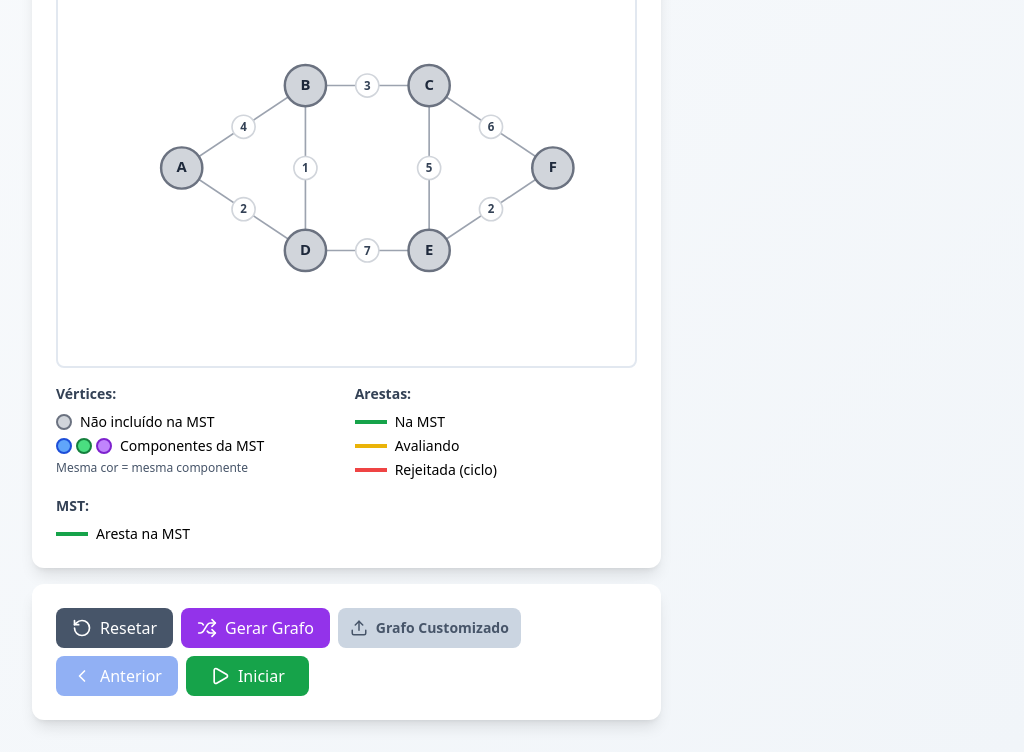
KruskalSimulator Integration › should show MST panel
(page scrolled)
Click the button with test id "start-button" at (247, 676), box left=186, top=656, right=309, bottom=696
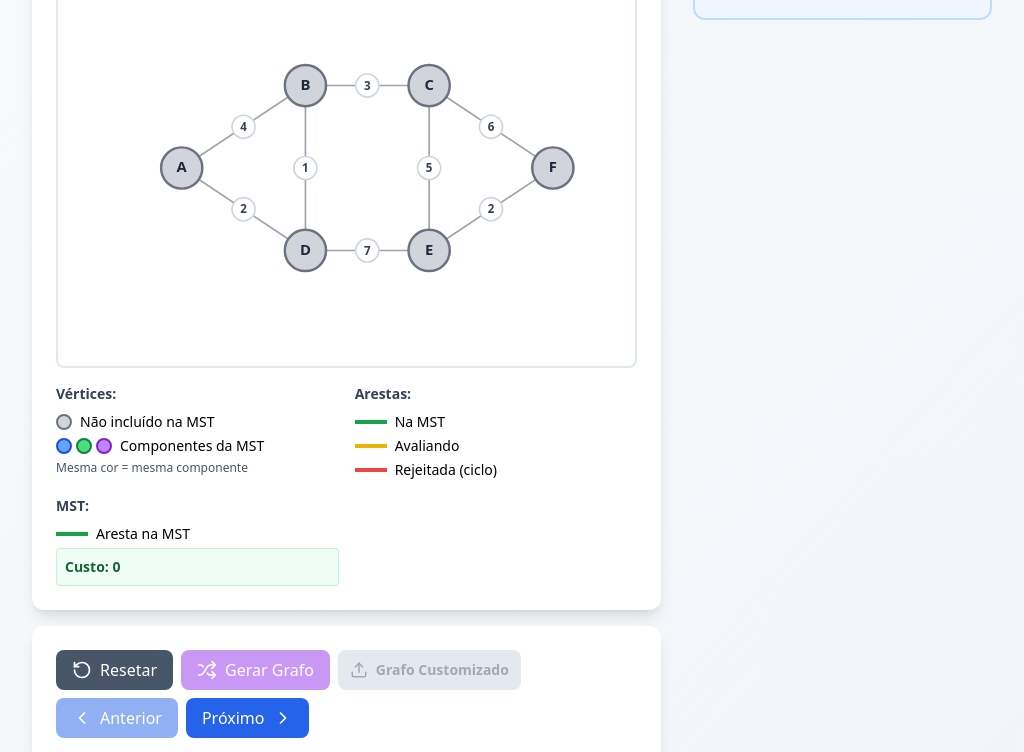
Click the button with test id "next-button" at (247, 718), box left=186, top=698, right=308, bottom=738
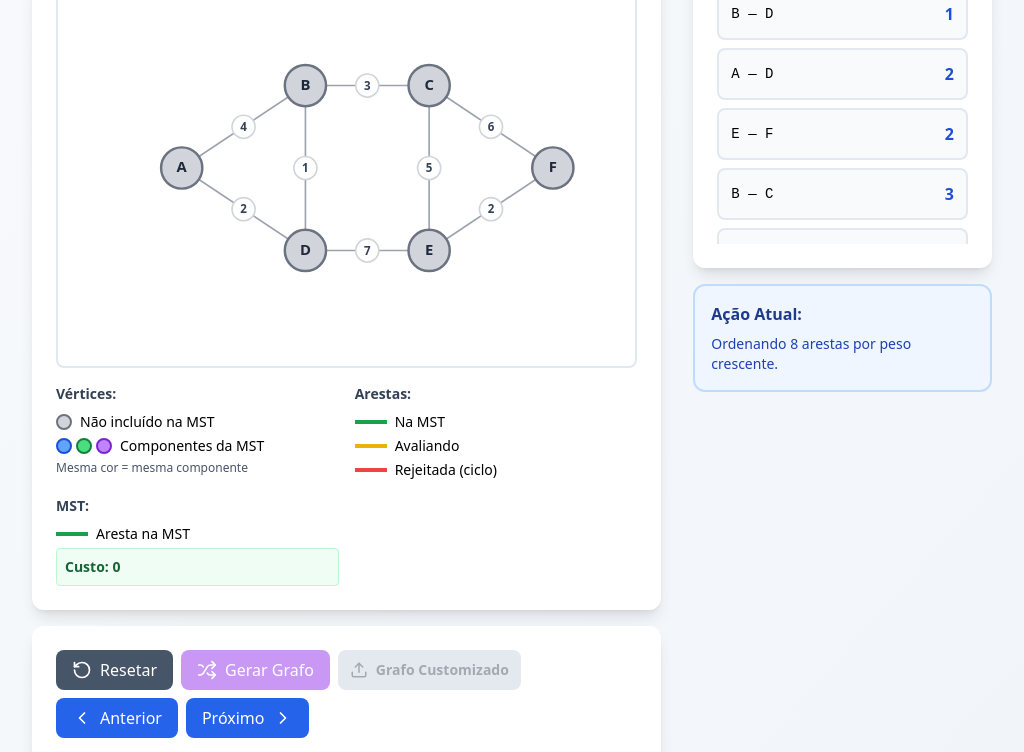
Click the button with test id "next-button" at (247, 718), box left=186, top=698, right=308, bottom=738
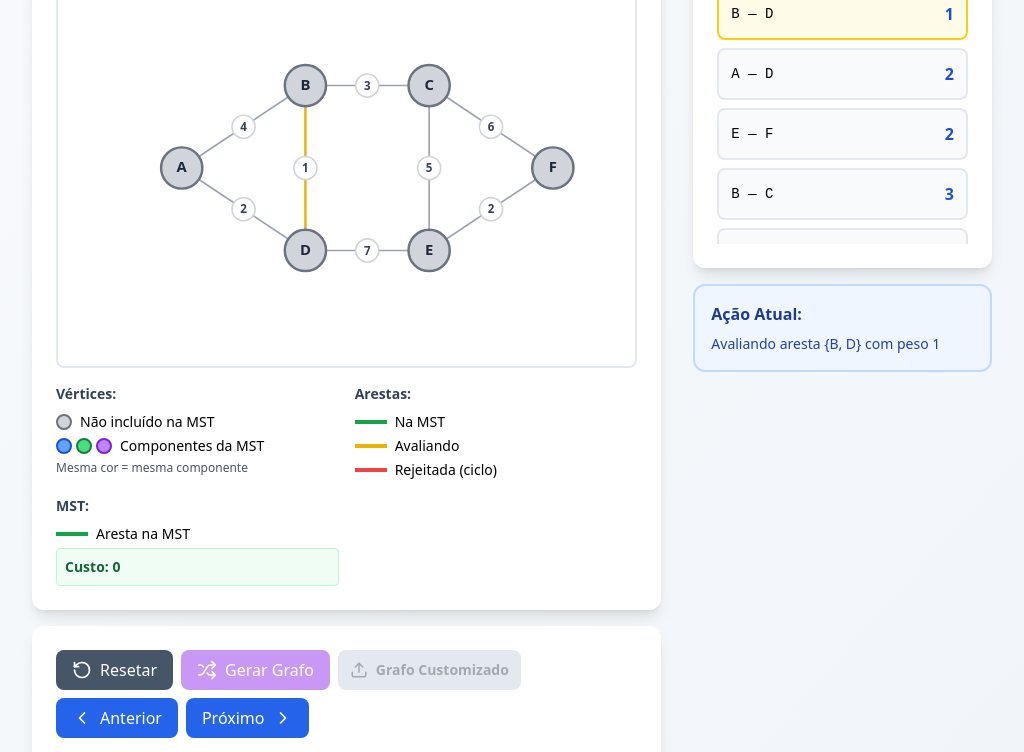
Click the button with test id "next-button" at (247, 718), box left=186, top=698, right=308, bottom=738
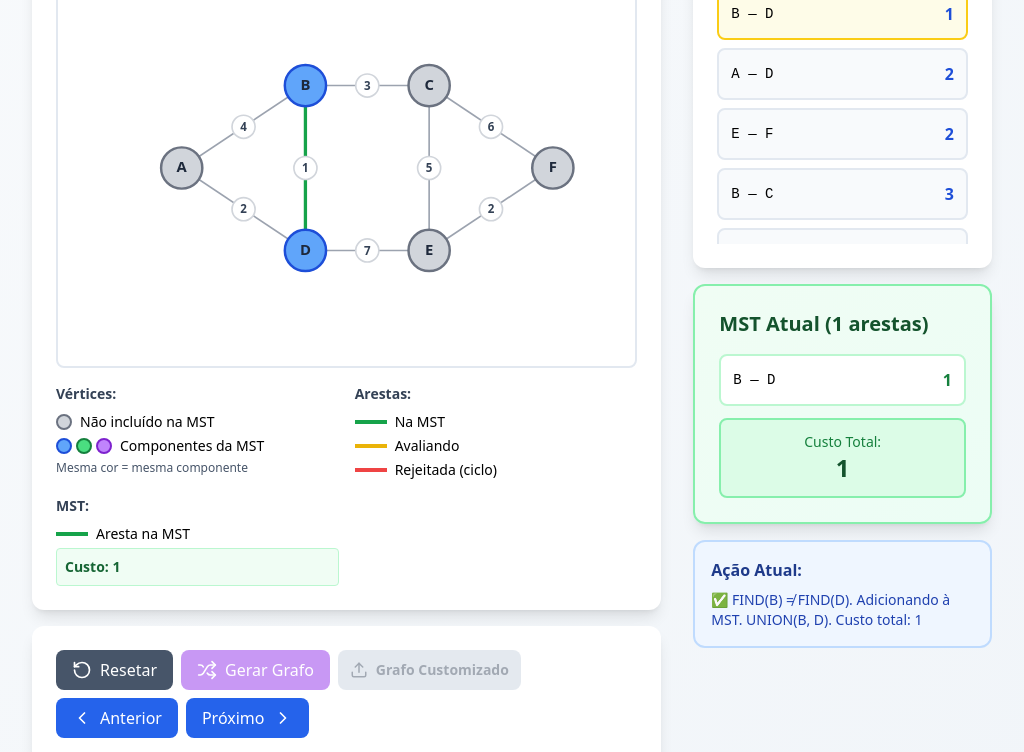
Expected: the element with test id "mst-panel" is shown, left=693, top=284, right=992, bottom=524
